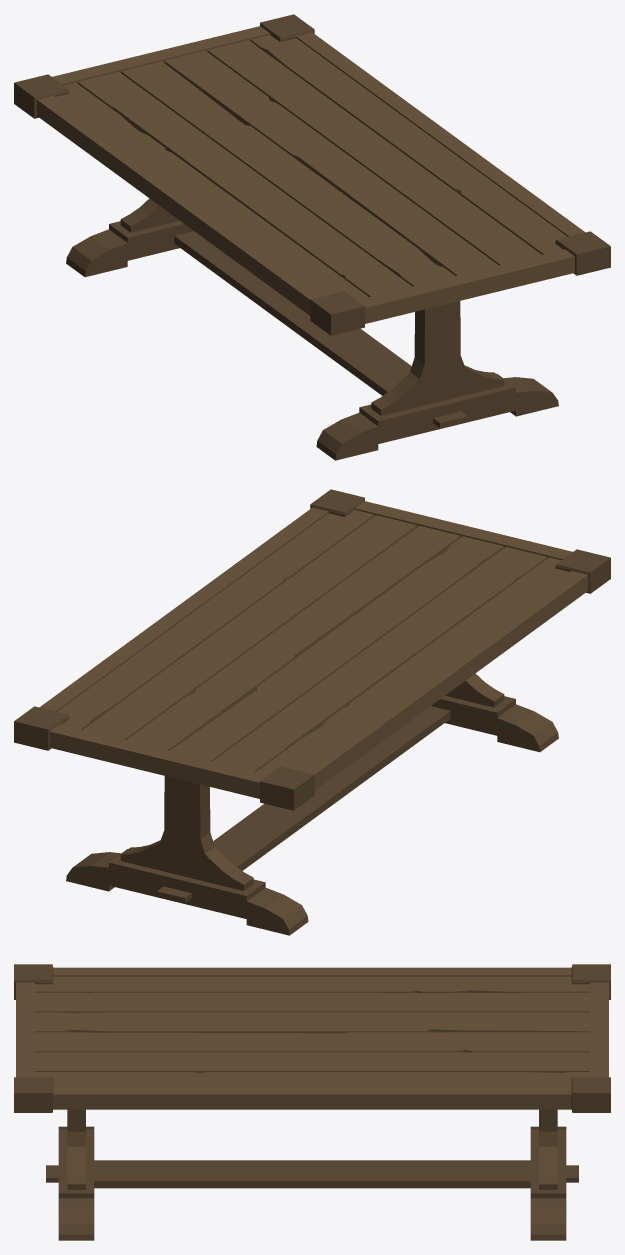
File: Table.obj
3 views of the same model, one above another, from view 1: azimuth 30°, elevation 25°; view 2: azimuth 150°, elevation 25°; view 3: azimuth 270°, elevation 25° (orthographic). The views are drawn at different scales.
Parts seen in each view (by area): view 1: Table_Cube.001; view 2: Table_Cube.001; view 3: Table_Cube.001.
Boxes of the visible parts, x1,y1,x2,y2 form: Table_Cube.001: [14, 14, 610, 460]; Table_Cube.001: [14, 489, 610, 935]; Table_Cube.001: [14, 964, 610, 1240].
Bounding box in the file's own units: 1.42 × 0.8244 × 2.78.
